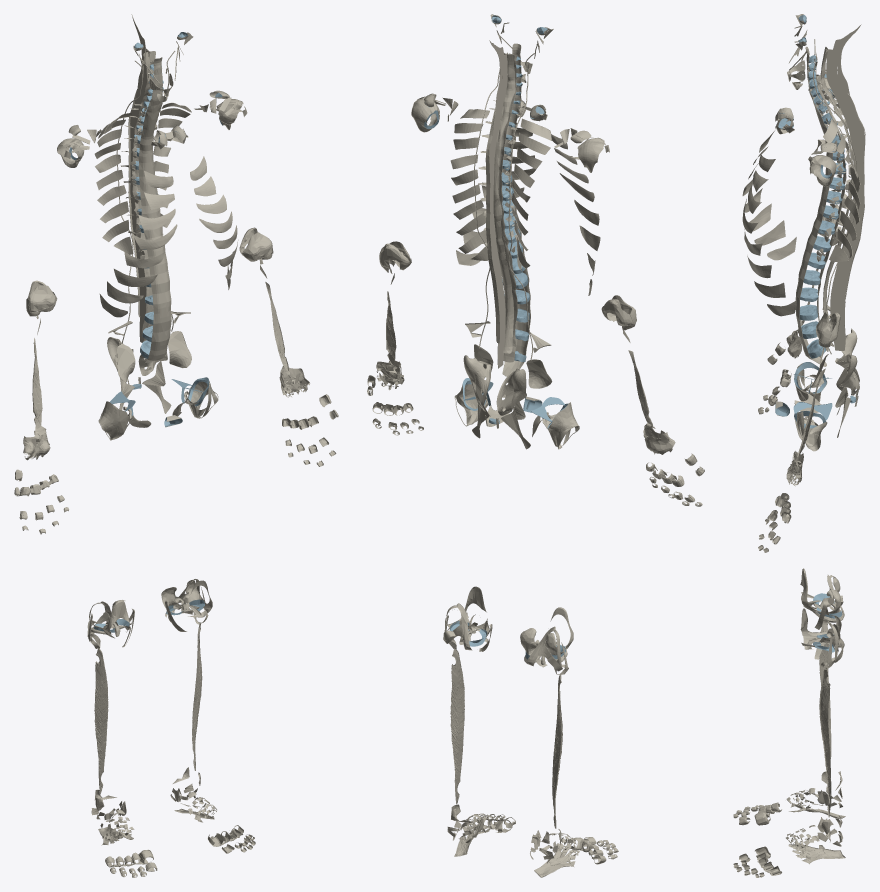
File: joints.glb
The picture shows the model from 3 angles, left to right: view 1: azimuth 30°, elevation 25°; view 2: azimuth 150°, elevation 25°; view 3: azimuth 270°, elevation 25°; orthographic projection. The views are drawn at different scales.
Visible parts, largest first — view 1: Anterior_longitudinal_ligament, External_intercostal_membrane|r, Internal_intercostal_membrane|r, External_intercostal_membrane|l, Interosseous_membrane_of_leg|r, Interspinous_ligaments, Internal_intercostal_membrane|l, Articular_capsule_of_knee_joint|l, Articular_capsule_of_elbow_joint|l, Interosseous_membrane_of_leg|l, Articular_capsule_of_elbow_joint|r, Anterior_sacro-iliac_ligament|l (+1 smaller); view 2: Internal_intercostal_membrane|l, Ligamenta_flava, Interspinous_ligaments, Internal_intercostal_membrane|r, Interosseous_membrane_of_leg|l, Anterior_longitudinal_ligament, External_intercostal_membrane|r, Posterior_longitudinal_ligament, Supraspinous_ligament, Posterior_sacro-iliac_ligament|r, External_intercostal_membrane|l, Posterior_sacro-iliac_ligament|l (+3 smaller); view 3: Interspinous_ligaments, External_intercostal_membrane|l, Internal_intercostal_membrane|l, Anterior_longitudinal_ligament, External_intercostal_membrane|r, Interosseous_membrane_of_leg|l, Ligamenta_flava, Articular_capsule_of_knee_joint|r, Posterior_longitudinal_ligament, Articular_capsule_of_knee_joint|l, Long_plantar_ligament|l, Articular_capsule_of_elbow_joint|l (+11 smaller).
Boxes of the visible parts, left/top/right/bottom form: Anterior_longitudinal_ligament: left=138, top=57, right=171, bottom=363; External_intercostal_membrane|r: left=99, top=170, right=177, bottom=317; Internal_intercostal_membrane|r: left=94, top=113, right=133, bottom=254; External_intercostal_membrane|l: left=190, top=156, right=238, bottom=289; Interosseous_membrane_of_leg|r: left=94, top=648, right=108, bottom=794; Interspinous_ligaments: left=130, top=50, right=149, bottom=342; Internal_intercostal_membrane|l: left=153, top=102, right=191, bottom=235; Articular_capsule_of_knee_joint|l: left=161, top=580, right=212, bottom=617; Articular_capsule_of_elbow_joint|l: left=239, top=227, right=272, bottom=261; Interosseous_membrane_of_leg|l: left=192, top=622, right=202, bottom=770; Articular_capsule_of_elbow_joint|r: left=28, top=280, right=56, bottom=311; Anterior_sacro-iliac_ligament|l: left=168, top=331, right=191, bottom=368; Internal_intercostal_membrane|l: left=450, top=109, right=489, bottom=260; Ligamenta_flava: left=493, top=53, right=515, bottom=353; Interspinous_ligaments: left=488, top=52, right=507, bottom=368; Internal_intercostal_membrane|r: left=511, top=118, right=551, bottom=271; Interosseous_membrane_of_leg|l: left=450, top=649, right=464, bottom=804; Anterior_longitudinal_ligament: left=502, top=43, right=530, bottom=376; External_intercostal_membrane|r: left=551, top=134, right=600, bottom=295; Posterior_longitudinal_ligament: left=498, top=53, right=517, bottom=362; Supraspinous_ligament: left=485, top=108, right=499, bottom=343; Posterior_sacro-iliac_ligament|r: left=496, top=368, right=526, bottom=415; External_intercostal_membrane|l: left=456, top=127, right=536, bottom=265; Posterior_sacro-iliac_ligament|l: left=463, top=355, right=490, bottom=411; Interspinous_ligaments: left=825, top=49, right=864, bottom=350; External_intercostal_membrane|l: left=742, top=154, right=796, bottom=316; Internal_intercostal_membrane|l: left=823, top=116, right=860, bottom=262; Anterior_longitudinal_ligament: left=795, top=46, right=832, bottom=366; External_intercostal_membrane|r: left=742, top=129, right=796, bottom=260; Interosseous_membrane_of_leg|l: left=819, top=668, right=831, bottom=817; Ligamenta_flava: left=821, top=47, right=853, bottom=320; Articular_capsule_of_knee_joint|r: left=800, top=568, right=843, bottom=622; Posterior_longitudinal_ligament: left=815, top=53, right=846, bottom=351; Articular_capsule_of_knee_joint|l: left=800, top=608, right=841, bottom=649; Long_plantar_ligament|l: left=788, top=843, right=845, bottom=864; Articular_capsule_of_elbow_joint|l: left=816, top=312, right=840, bottom=343.
Bounding box in the file's own units: 0.6784 × 1.62 × 0.2367.
